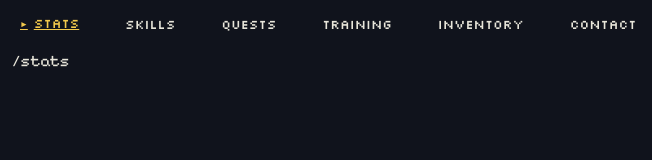
Test: navigates on click
Click the link "QUESTS": (249, 24) [221,16,276,32]
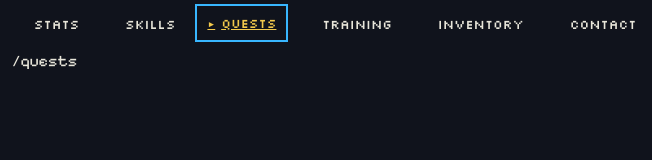
Now the text with test id "location" reads "/quests", box [12,51,77,70]
